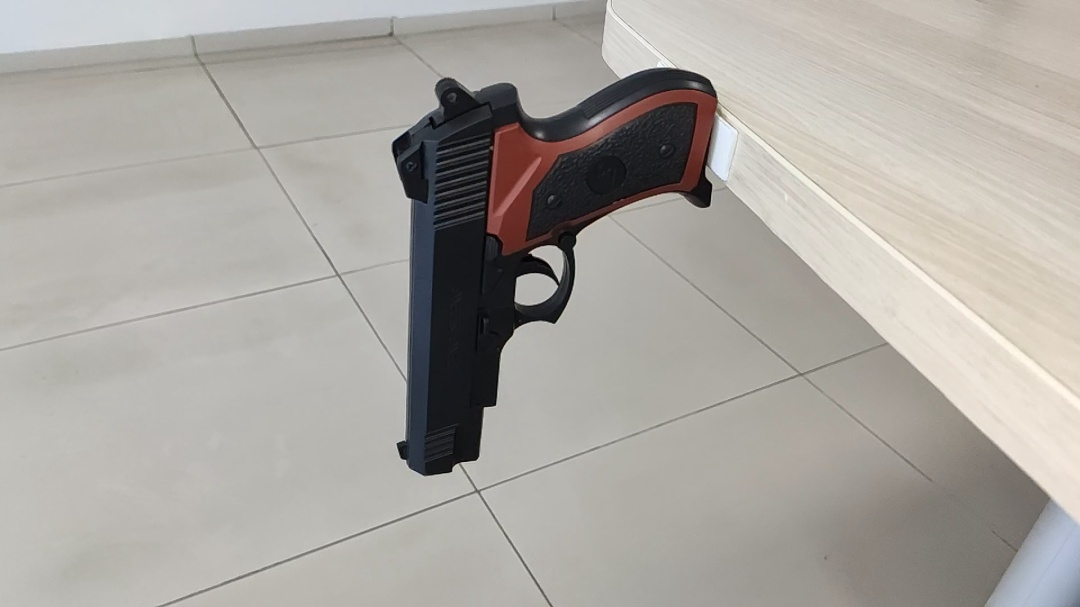gun: (379, 61, 721, 482)
